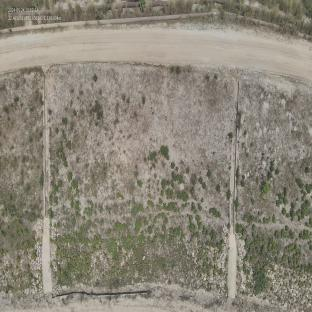rock_toe: (52, 241, 227, 290), (237, 244, 312, 309), (0, 246, 41, 291)
slope_drain: (228, 79, 241, 299), (42, 66, 53, 295)
toe_drain: (16, 286, 241, 309)
